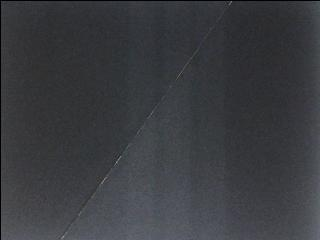crack: (60, 0, 235, 240)
